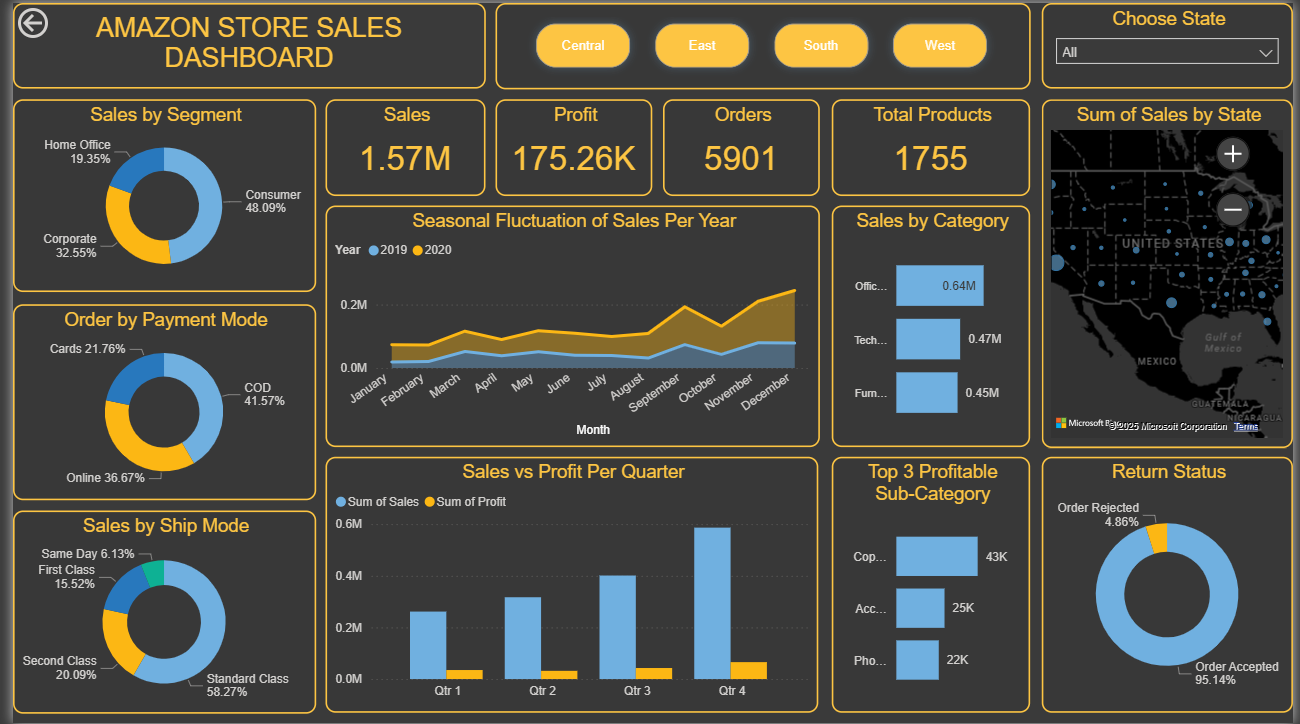

What the dashboard file says about the page in this screenshot:
{"tool":"powerbi","page":{"name":"Page 1","canvas":[1280,720],"ordinal":0},"visuals":[{"type":"clusteredBarChart","title":" Sales by Category","fields":{"Category":["Amazon Store Sales Data xlsx.Category"],"Y":["Sum(Amazon Store Sales Data xlsx.Sales)"]},"box":[818.6,202.9,198.6,241.4],"z":0},{"type":"clusteredBarChart","title":"Top 3 Profitable Sub-Category","fields":{"Category":["Amazon Store Sales Data xlsx.Sub-Category"],"Y":["Sum(Amazon Store Sales Data xlsx.Profit)"]},"box":[818.8,453.8,198.8,256.2],"z":1000},{"type":"donutChart","title":"Sales by Segment","fields":{"Category":["Amazon Store Sales Data xlsx.Segment"],"Y":["Sum(Amazon Store Sales Data xlsx.Sales)"]},"box":[0,95.7,302.9,192.9],"z":2000},{"type":"donutChart","title":"Sales by Ship Mode","fields":{"Category":["Amazon Store Sales Data xlsx.Ship Mode"],"Y":["Sum(Amazon Store Sales Data xlsx.Sales)"]},"box":[0,507.1,302.9,202.9],"z":3000},{"type":"donutChart","title":" Return Status","fields":{"Y":["CountNonNull(Amazon Store Sales Data xlsx.Order ID)"],"Category":["Amazon Store Sales Data xlsx.Return Status"]},"box":[1028.6,454.3,251.4,255.7],"z":4000},{"type":"stackedAreaChart","title":"Seasonal Fluctuation of Sales Per Year","fields":{"Y":["Sum(Amazon Store Sales Data xlsx.Sales)"],"Category":["Amazon Store Sales Data xlsx.Order Date.Variation.Date Hierarchy.Month"],"Series":["Amazon Store Sales Data xlsx.Order Date.Variation.Date Hierarchy.Year"]},"box":[312.9,202.9,494.3,241.4],"z":5000},{"type":"clusteredColumnChart","title":"Sales vs Profit Per Quarter","fields":{"Category":["Amazon Store Sales Data xlsx.Order Date.Variation.Date Hierarchy.Quarter"],"Y":["Sum(Amazon Store Sales Data xlsx.Sales)","Sum(Amazon Store Sales Data xlsx.Profit)"]},"box":[312.9,454.3,492.9,255.7],"z":6000},{"type":"donutChart","title":" Order by Payment Mode","fields":{"Category":["Amazon Store Sales Data xlsx.Payment Mode"],"Y":["CountNonNull(Amazon Store Sales Data xlsx.Order ID)"]},"box":[0,301.4,302.9,195.7],"z":7000},{"type":"map","fields":{"Category":["Amazon Store Sales Data xlsx.State"],"Size":["Sum(Amazon Store Sales Data xlsx.Sales)"]},"box":[1028.6,95.7,251.4,348.6],"z":8000},{"type":"advancedSlicerVisual","fields":{"Values":["Amazon Store Sales Data xlsx.Region"]},"box":[482.5,0,535,86.2],"z":9000},{"type":"textbox","box":[0,0,472.9,85.7],"z":10000},{"type":"card","title":"Sales","fields":{"Values":["Sum(Amazon Store Sales Data xlsx.Sales)"]},"box":[312.9,95.7,160,97.1],"z":11000},{"type":"card","title":"Profit","fields":{"Values":["Sum(Amazon Store Sales Data xlsx.Profit)"]},"box":[482.9,95.7,157.1,97.1],"z":12000},{"type":"card","title":"Orders","fields":{"Values":["CountNonNull(Amazon Store Sales Data xlsx.Order ID)"]},"box":[650,95.7,157.1,97.1],"z":13000},{"type":"card","title":"Total Products","fields":{"Values":["Count(Amazon Store Sales Data xlsx.Product ID)"]},"box":[818.6,95.7,198.6,97.1],"z":14000},{"type":"slicer","title":"Choose State","fields":{"Values":["Amazon Store Sales Data xlsx.State"]},"box":[1028.6,0,251.4,85.7],"z":15000},{"type":"actionButton","box":[0,0,100,40],"z":15001}]}

Visuals, with their boxes in screenshot pixels (x1, y1, x2, y2), scaled from the page's 1280x720 canvas onto the 1300x724 screenshot:
" Sales by Category" clusteredBarChart: (left=831, top=204, right=1033, bottom=447)
"Top 3 Profitable Sub-Category" clusteredBarChart: (left=832, top=456, right=1034, bottom=714)
"Sales by Segment" donutChart: (left=0, top=96, right=308, bottom=290)
"Sales by Ship Mode" donutChart: (left=0, top=510, right=308, bottom=714)
" Return Status" donutChart: (left=1045, top=457, right=1299, bottom=714)
"Seasonal Fluctuation of Sales Per Year" stackedAreaChart: (left=318, top=204, right=820, bottom=447)
"Sales vs Profit Per Quarter" clusteredColumnChart: (left=318, top=457, right=818, bottom=714)
" Order by Payment Mode" donutChart: (left=0, top=303, right=308, bottom=500)
map - Amazon Store Sales Data xlsx.State x Sum(Amazon Store Sales Data xlsx.Sales): (left=1045, top=96, right=1299, bottom=447)
advancedSlicerVisual - Amazon Store Sales Data xlsx.Region: (left=490, top=0, right=1033, bottom=87)
textbox: (left=0, top=0, right=480, bottom=86)
"Sales" card: (left=318, top=96, right=480, bottom=194)
"Profit" card: (left=490, top=96, right=650, bottom=194)
"Orders" card: (left=660, top=96, right=820, bottom=194)
"Total Products" card: (left=831, top=96, right=1033, bottom=194)
"Choose State" slicer: (left=1045, top=0, right=1299, bottom=86)
actionButton: (left=0, top=0, right=102, bottom=40)
